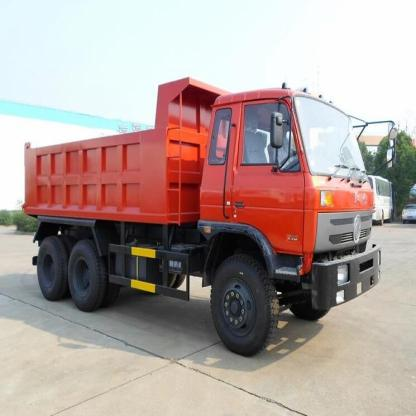dump_truck: (11, 67, 388, 362)
